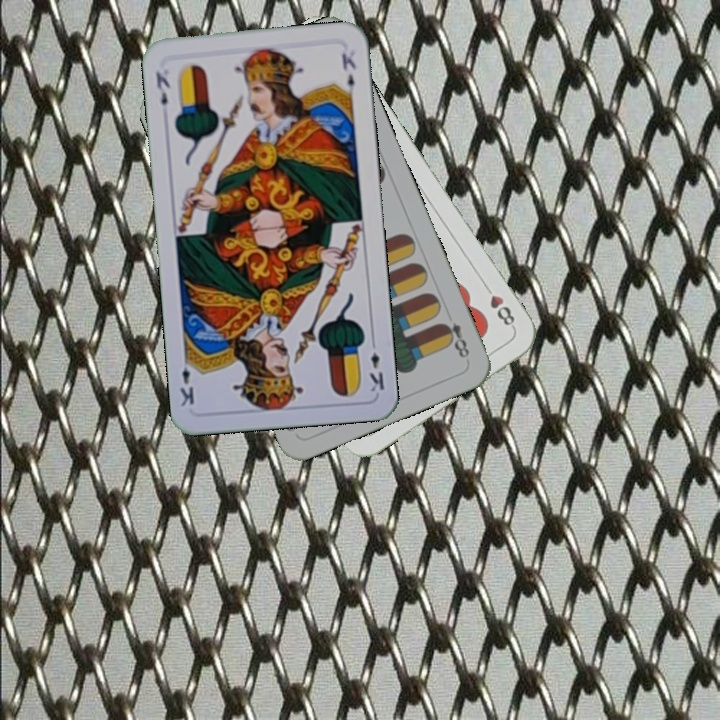E8: (437, 318, 472, 361)
EK: (366, 335, 387, 394), (151, 68, 173, 108)
H8: (479, 279, 518, 331)
